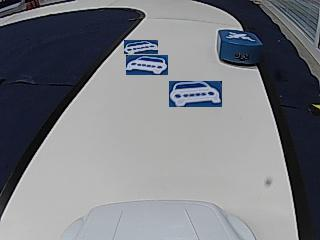prop: (218, 30, 262, 67)
